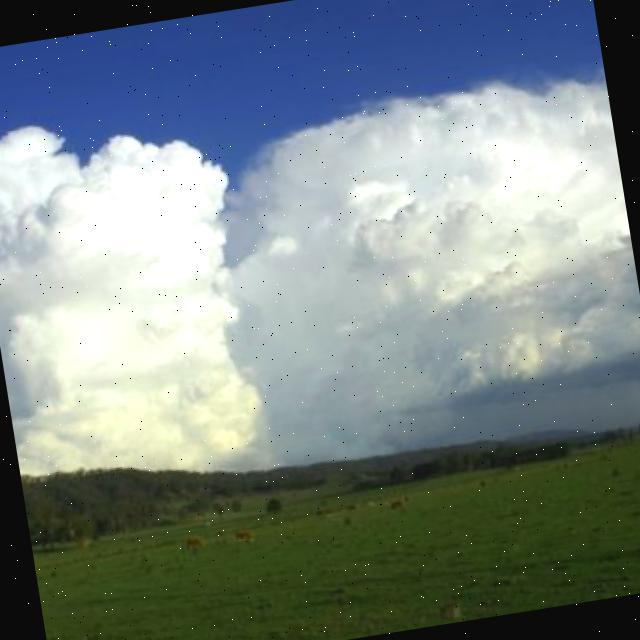Cb: (1, 32, 640, 452)
